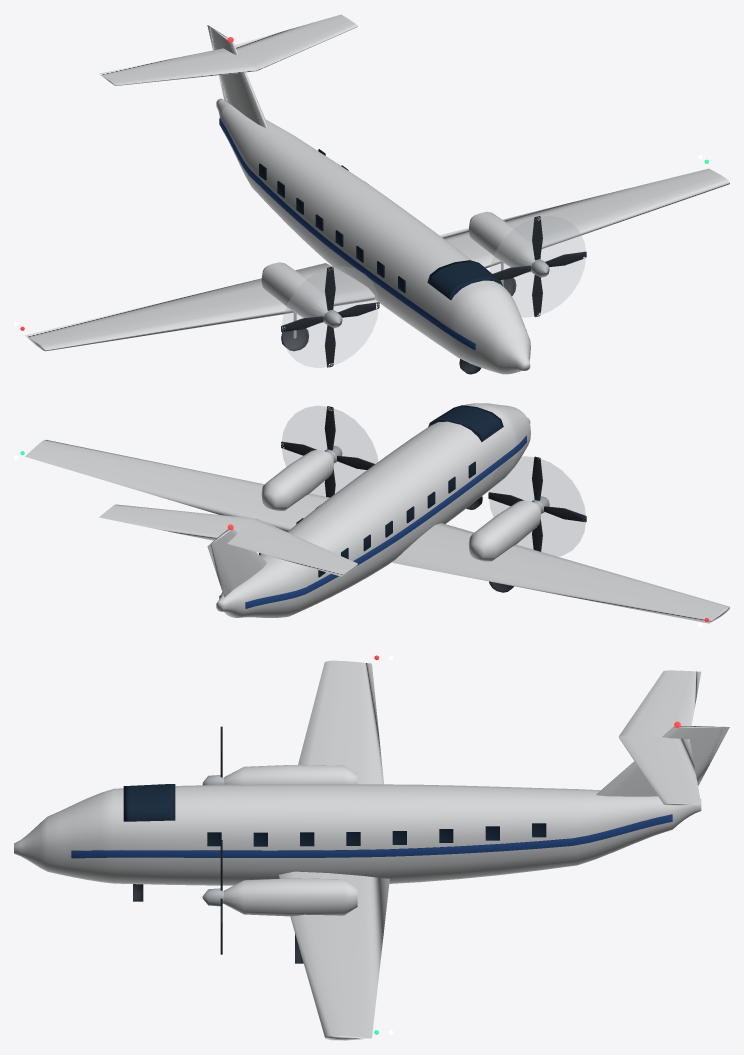
3 renders of one model, top to bottom at view 1: azimuth 30°, elevation 25°; view 2: azimuth 150°, elevation 25°; view 3: azimuth 270°, elevation 25°, orthographic. The views are drawn at different scales.
Visible parts, largest first — view 1: body, disc0, disc1, prop0, prop1; view 2: body, disc0, disc1, prop0, prop1; view 3: body, prop1.
Boxes of the visible parts, box(x1,y1,x2,y2) form: body: box(25, 14, 729, 374); disc0: box(282, 266, 378, 367); disc1: box(490, 216, 585, 317); prop0: box(281, 266, 379, 367); prop1: box(493, 216, 586, 317); body: box(25, 403, 729, 623); disc0: box(489, 456, 585, 556); disc1: box(282, 406, 377, 496); prop0: box(488, 456, 586, 551); prop1: box(281, 406, 374, 497); body: box(14, 660, 729, 1040); prop1: box(202, 840, 223, 954).
Size of the model in its own units: 16.61 by 3.77 by 13.34.
